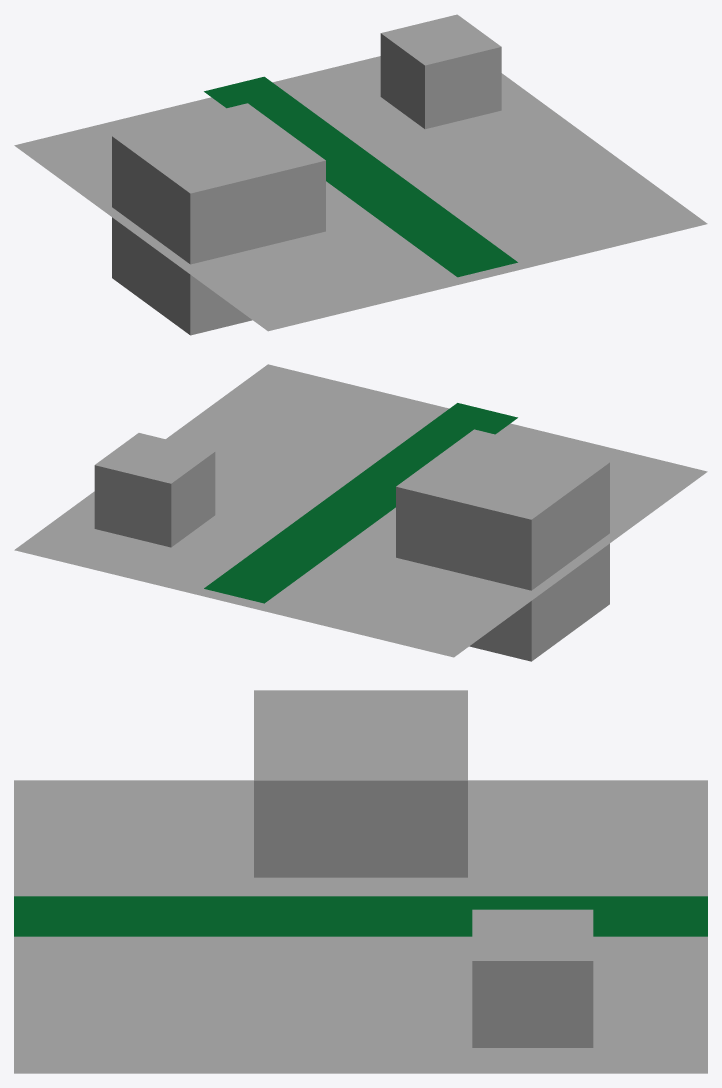
Rendered from street_straight_001.fbx.
The picture shows the model from 3 angles, top to bottom: view 1: azimuth 30°, elevation 25°; view 2: azimuth 150°, elevation 25°; view 3: azimuth 270°, elevation 25°; orthographic projection. The views are drawn at different scales.
Visible parts, largest first — view 1: street_straight_001; view 2: street_straight_001; view 3: street_straight_001.
Boxes of the visible parts, x1=… form: street_straight_001: x1=14, y1=14, x2=707, y2=335; street_straight_001: x1=14, y1=364, x2=707, y2=661; street_straight_001: x1=14, y1=690, x2=707, y2=1073.
Size of the model in its own units: 1 by 0.3083 by 1.
